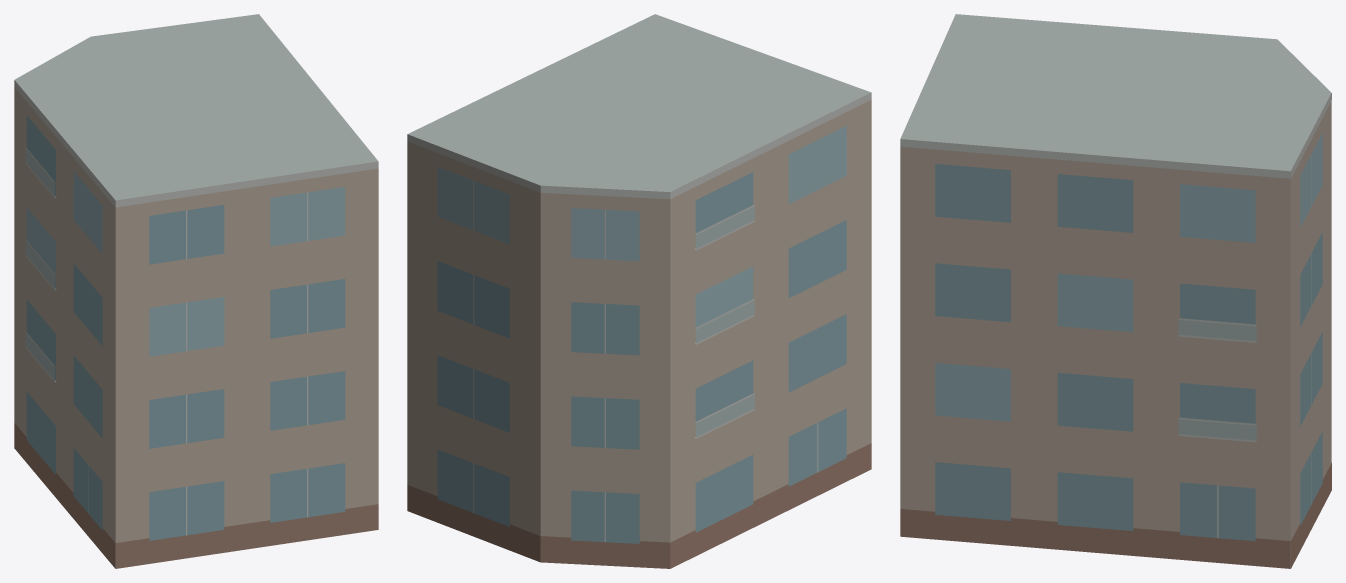
Rendered from survey-upis-32922644.glb.
3 renders of one model, left to right at view 1: azimuth 30°, elevation 25°; view 2: azimuth 150°, elevation 25°; view 3: azimuth 270°, elevation 25°, orthographic. The views are drawn at different scales.
Parts seen in each view (by area): view 1: survey-upis-32922644.tmp; view 2: survey-upis-32922644.tmp; view 3: survey-upis-32922644.tmp.
Part boxes in pixels (x1=…): survey-upis-32922644.tmp: x1=14, y1=14, x2=378, y2=568; survey-upis-32922644.tmp: x1=407, y1=14, x2=871, y2=568; survey-upis-32922644.tmp: x1=900, y1=14, x2=1331, y2=568.
Bounding box in the file's own units: 10.87 × 12.8 × 12.6.
